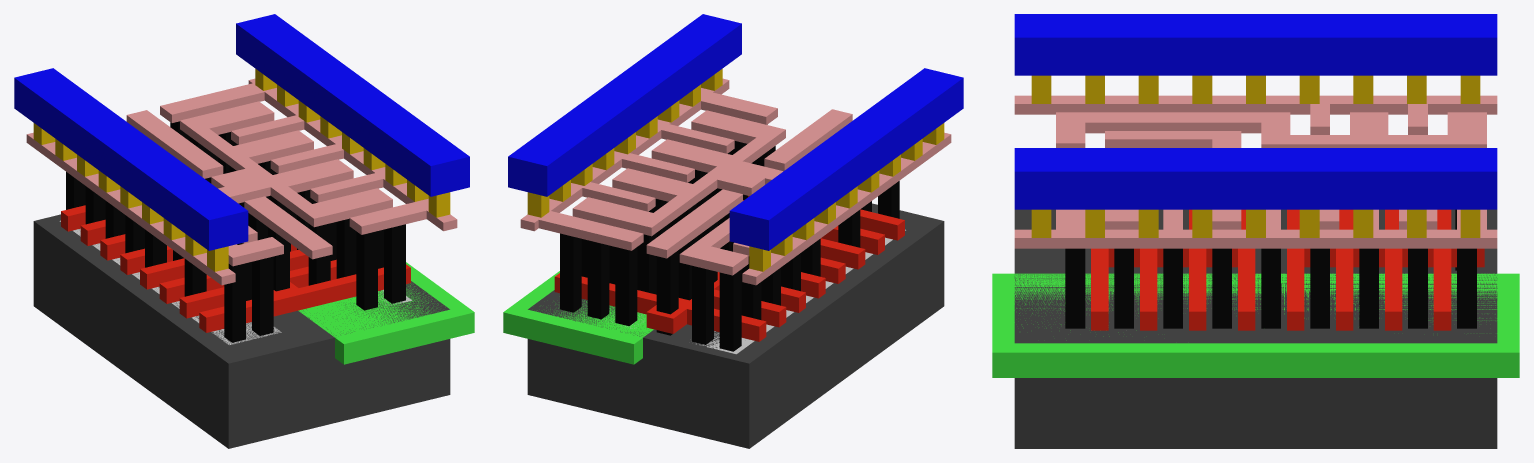
Rendered from sky130_fd_sc_hd__nand2_4.obj.
3 views of the same model, side by side, from view 1: azimuth 30°, elevation 25°; view 2: azimuth 150°, elevation 25°; view 3: azimuth 270°, elevation 25° (orthographic). The views are drawn at different scales.
Parts seen in each view (by area): view 1: subs, metal1, li, licon, poly, nwell, mcon, diff; view 2: subs, metal1, li, licon, poly, nwell, mcon, diff; view 3: metal1, subs, li, nwell, poly, licon, mcon.
Boxes of the visible parts, bbox=[...] form: subs: bbox=[33, 214, 450, 448]; metal1: bbox=[14, 14, 469, 250]; li: bbox=[26, 78, 457, 285]; licon: bbox=[66, 121, 405, 342]; poly: bbox=[61, 205, 410, 332]; nwell: bbox=[298, 262, 474, 364]; mcon: bbox=[33, 68, 450, 271]; diff: bbox=[59, 220, 281, 344]; subs: bbox=[527, 203, 944, 448]; metal1: bbox=[508, 14, 963, 250]; li: bbox=[520, 78, 951, 285]; licon: bbox=[560, 124, 899, 351]; poly: bbox=[554, 196, 904, 341]; nwell: bbox=[503, 271, 653, 364]; mcon: bbox=[527, 68, 944, 271]; diff: bbox=[696, 229, 905, 354]; metal1: bbox=[1014, 14, 1497, 209]; subs: bbox=[1014, 209, 1497, 448]; li: bbox=[1014, 95, 1497, 248]; nwell: bbox=[992, 273, 1519, 377]; poly: bbox=[1091, 209, 1484, 330]; licon: bbox=[1065, 209, 1476, 328]; mcon: bbox=[1031, 75, 1480, 237].
Bounding box in the file's own units: 3.2 × 2.74 × 4.52.
